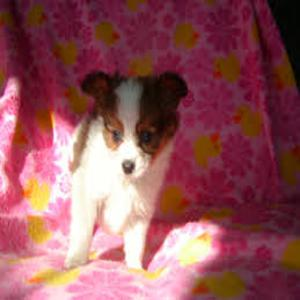yell: (65, 69, 186, 271)
